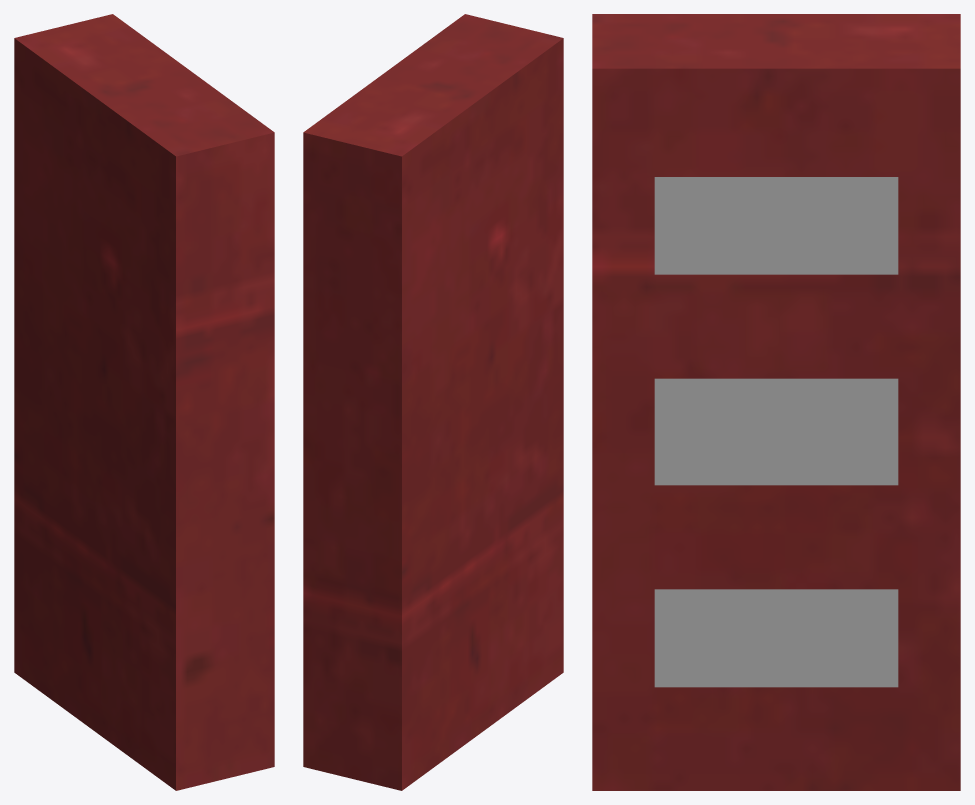
File: p6_future_fire_extinguisher_case_door_mil_lod3.glb
The picture shows the model from 3 angles, left to right: view 1: azimuth 30°, elevation 25°; view 2: azimuth 150°, elevation 25°; view 3: azimuth 270°, elevation 25°; orthographic projection. The views are drawn at different scales.
Visible parts, largest first — view 1: surf0; view 2: surf0; view 3: surf0, surf1.
Part boxes in pixels (box(x1,y1,x2,y2)): surf0: box(14, 14, 274, 790); surf0: box(303, 14, 563, 790); surf0: box(592, 14, 960, 790); surf1: box(654, 177, 898, 687).
Size of the model in its own units: 5.67 by 33.52 by 15.5.
